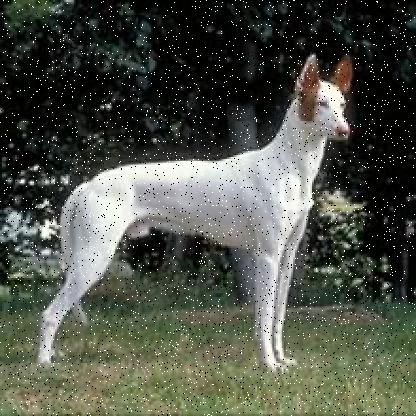dog: (36, 49, 380, 384)
